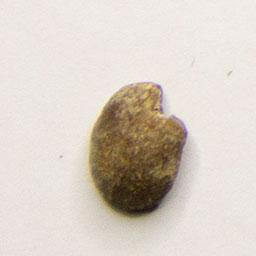defect: (81, 75, 193, 221)
